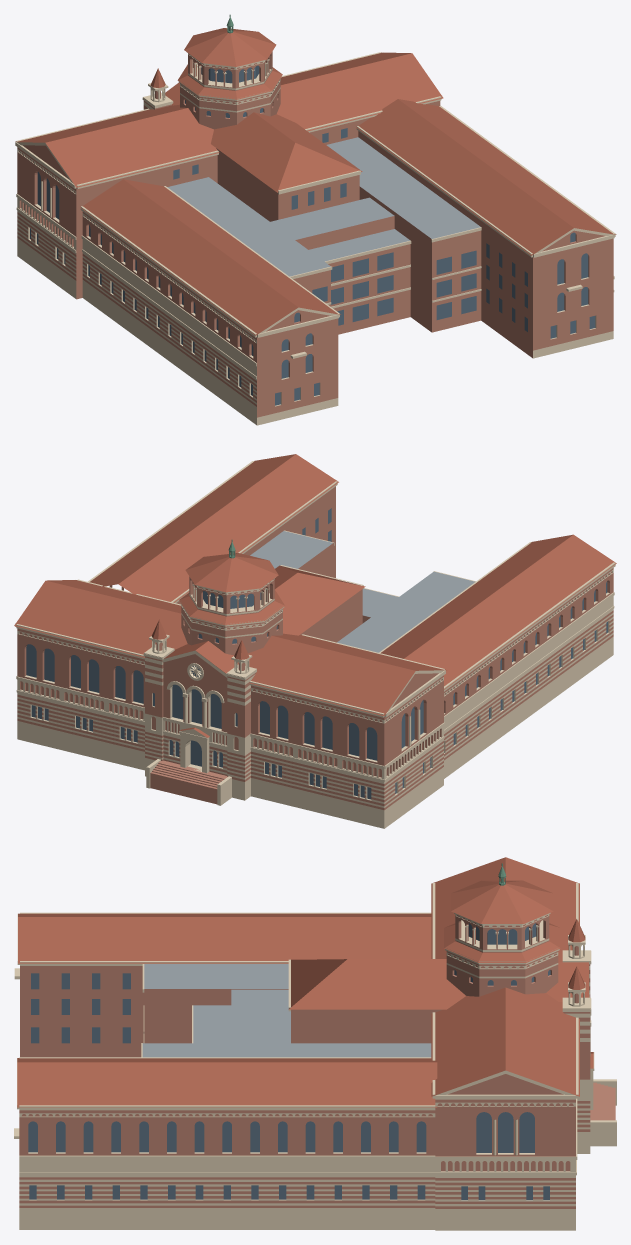
The model's file is la-powell-library.detail.glb.
The picture shows the model from 3 angles, top to bottom: view 1: azimuth 30°, elevation 25°; view 2: azimuth 150°, elevation 25°; view 3: azimuth 270°, elevation 25°; orthographic projection. The views are drawn at different scales.
Visible parts, largest first — view 1: Powell Library; view 2: Powell Library; view 3: Powell Library.
Part boxes in pixels (<box>): Powell Library: <box>15,14,616,425</box>; Powell Library: <box>14,454,616,828</box>; Powell Library: <box>14,857,616,1230</box>.
Size of the model in its own units: 67.9 by 38.8 by 81.
